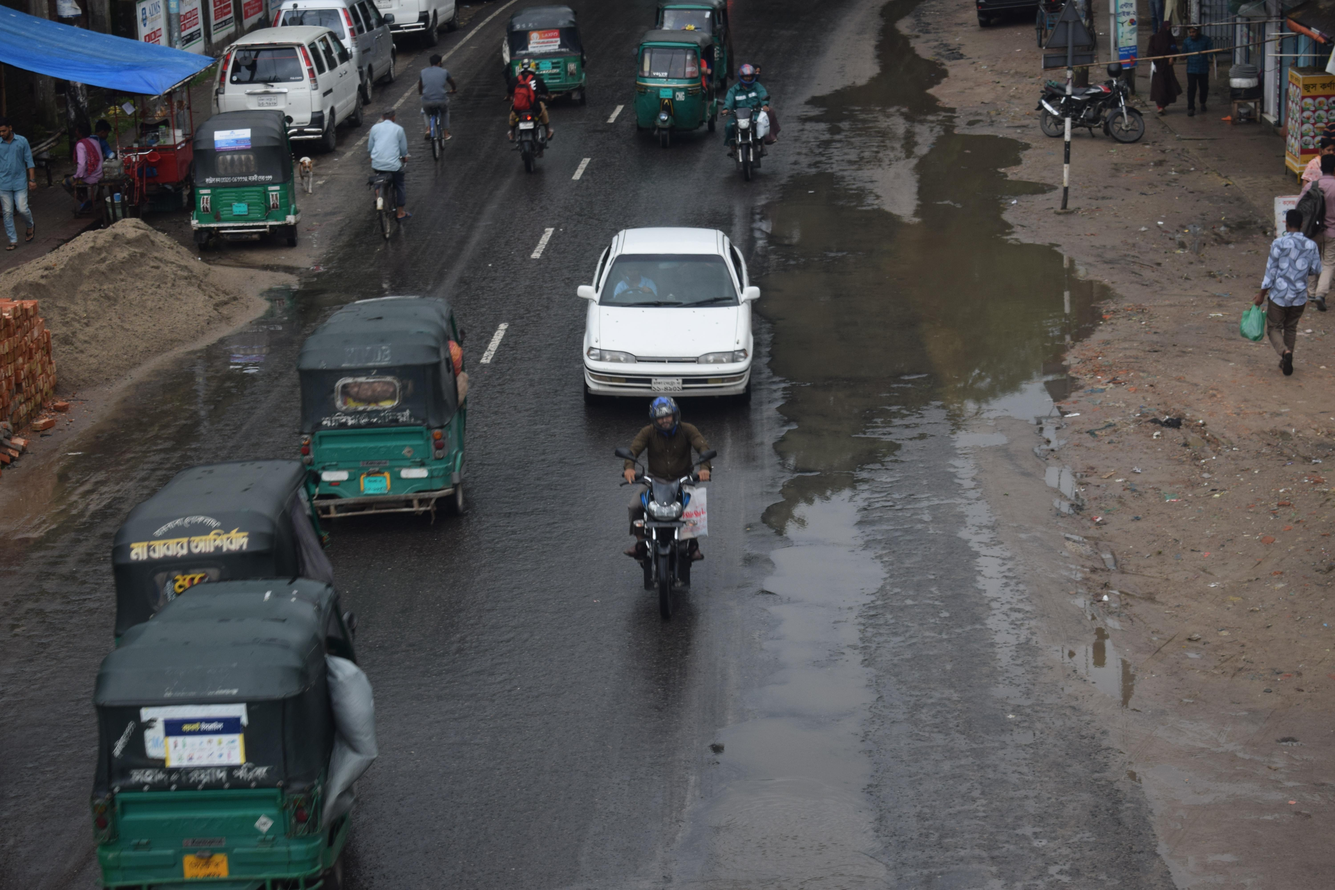Bike: (584, 377, 759, 670), (702, 47, 791, 192), (1018, 67, 1158, 156), (498, 49, 572, 192)
Car: (556, 188, 791, 420), (193, 21, 382, 168)
